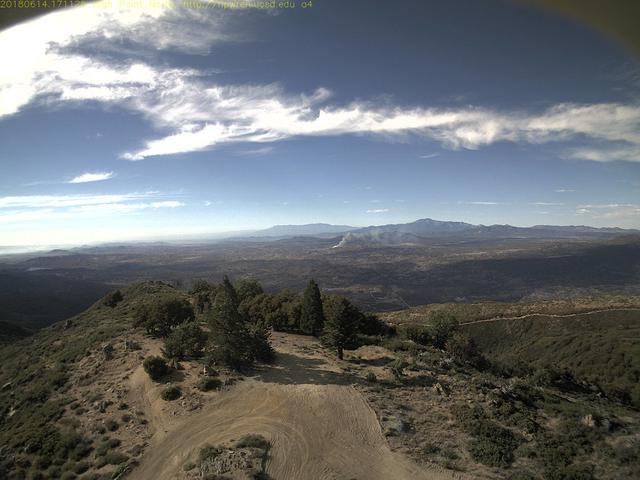smoke: (326, 223, 420, 252)
